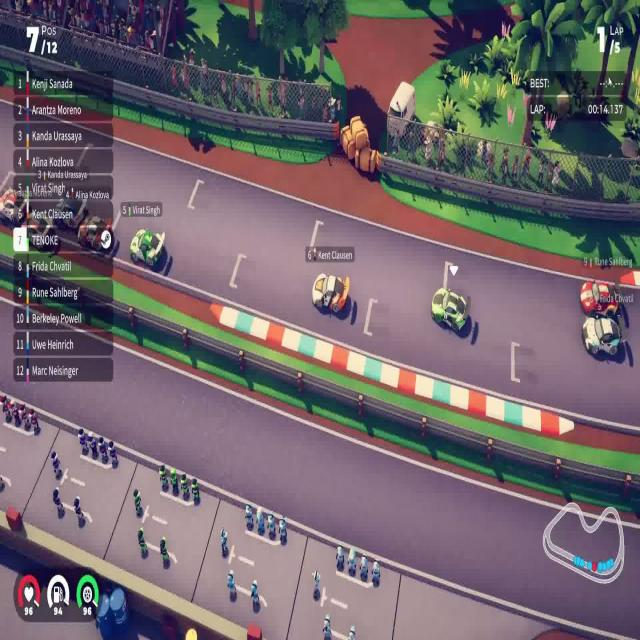car: (581, 312, 622, 358), (430, 286, 469, 333), (311, 271, 350, 316), (579, 277, 619, 318), (129, 227, 166, 269)
